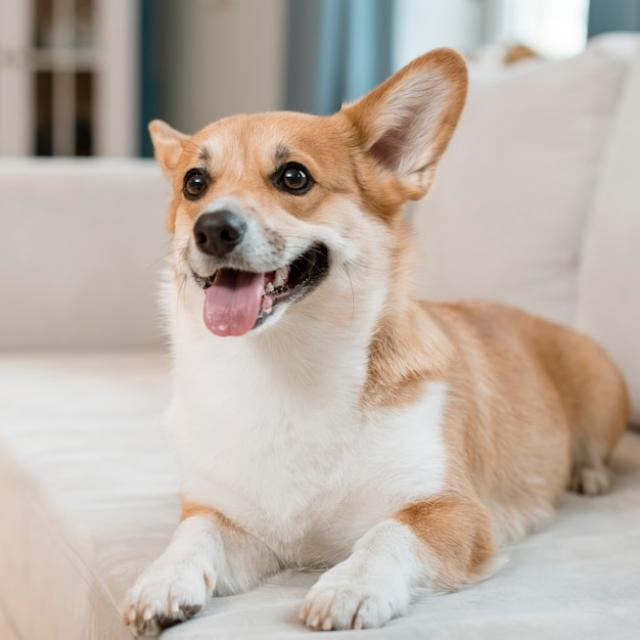Dog: (123, 46, 630, 635)
